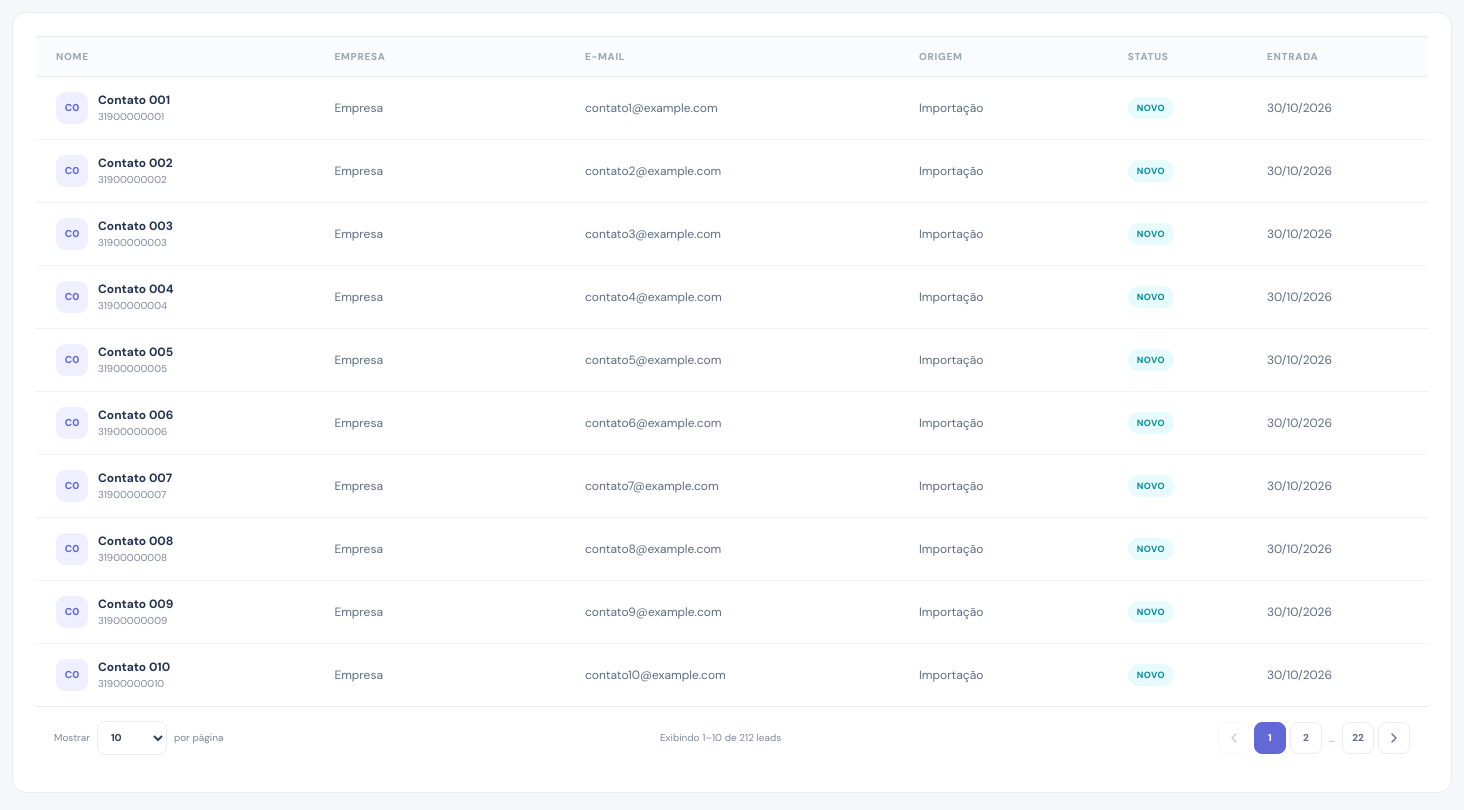
Test case: authenticated pages use only the remote snapshot › paginates all 212 authenticated contacts and exposes the last page
(page scrolled)
Expected: the text "Exibindo 1–10 de 212 leads" is shown, top-left (660, 731), bottom-right (781, 744)
Expected: the text "Contato 001" is shown, top-left (98, 92), bottom-right (170, 108)
Click the button named "Página 22". click: coordinates (1358, 738)
box: top-left (1342, 722), bottom-right (1374, 754)
(page scrolled)
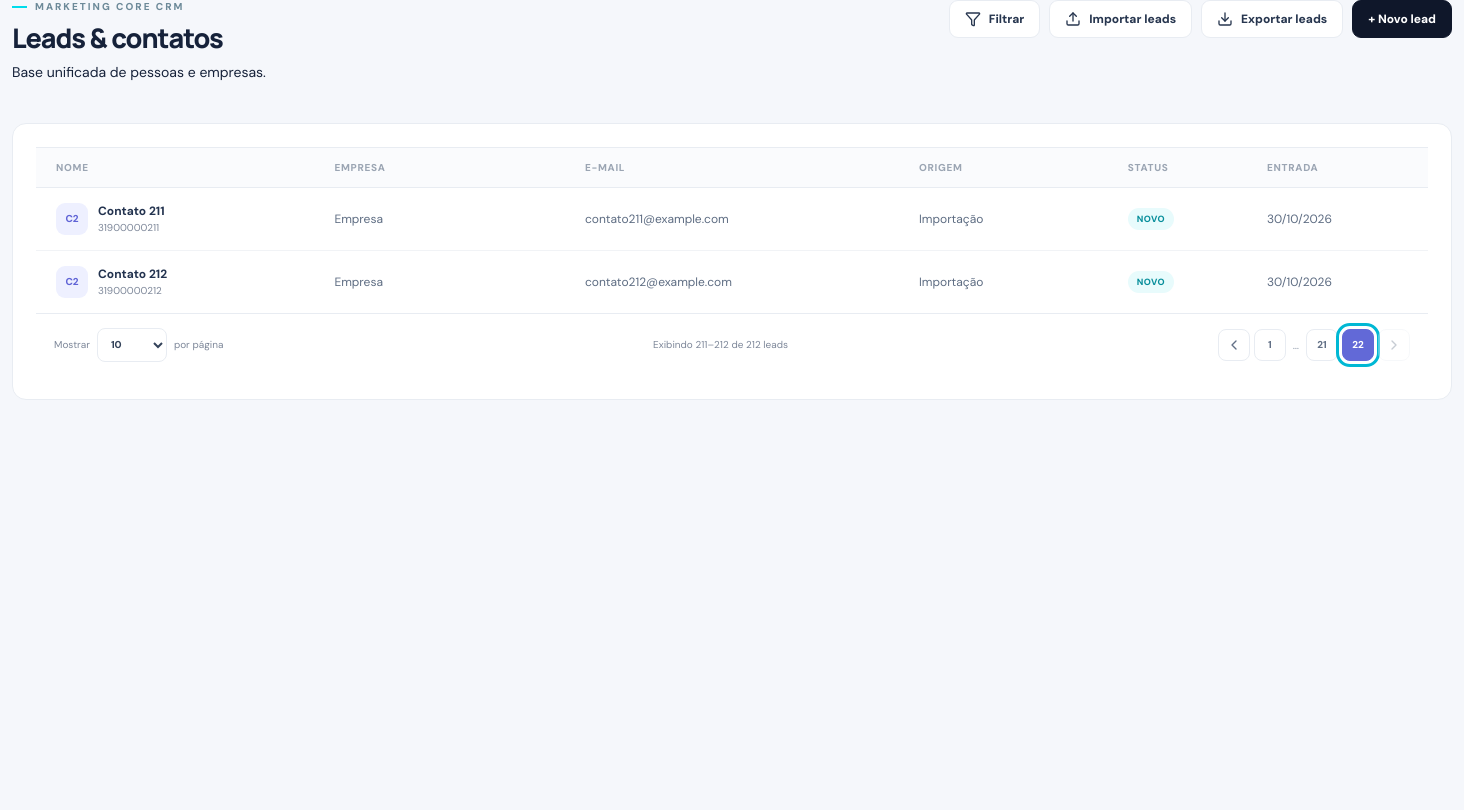
Expected: the text "Exibindo 211–212 de 212 leads" is shown, top-left (653, 338), bottom-right (788, 351)
Expected: the text "Contato 211" is shown, top-left (98, 203), bottom-right (165, 219)
Expected: the text "Contato 212" is shown, top-left (98, 266), bottom-right (167, 282)
